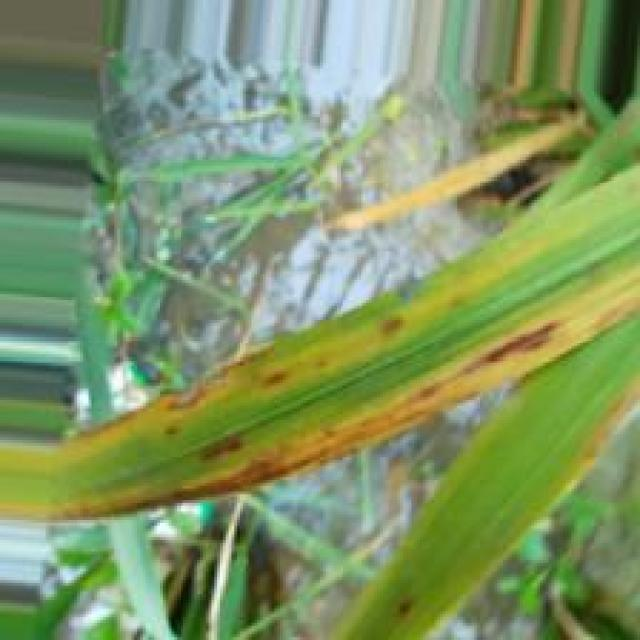Narrow_Brown_Leaf_Spot: (0, 253, 640, 518), (68, 229, 592, 462), (388, 365, 640, 635)
